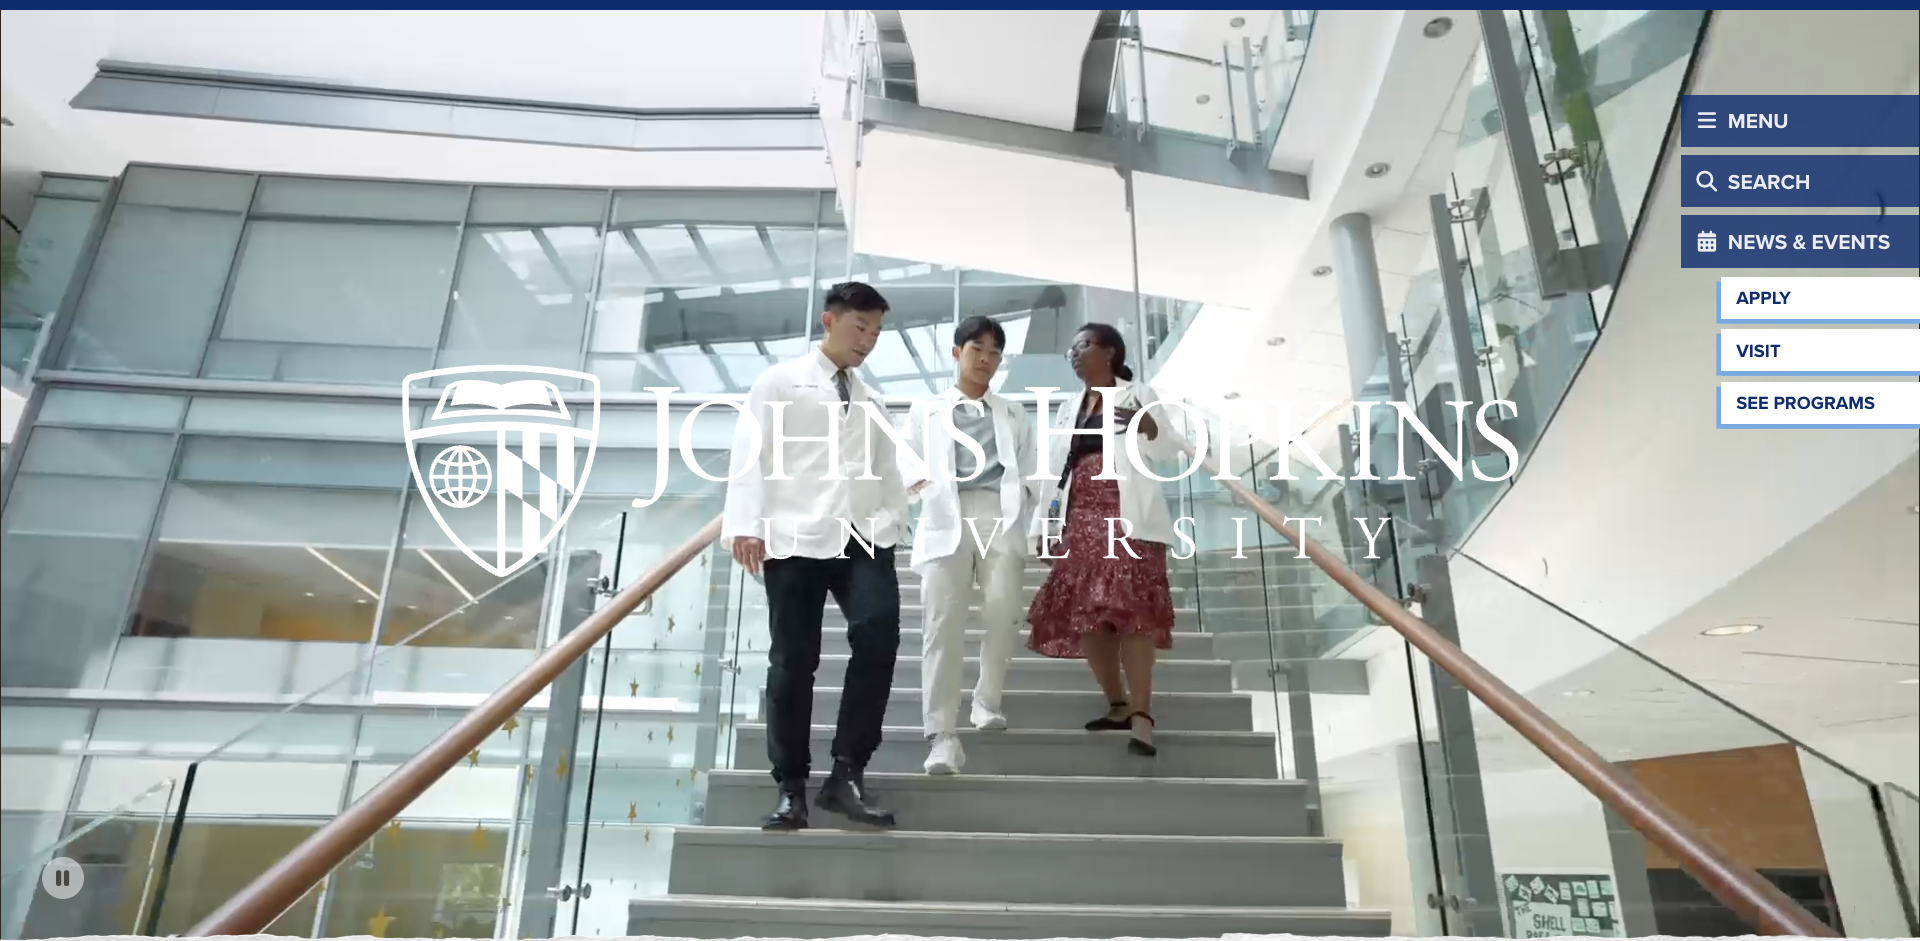button: (42, 856, 105, 899)
link: (1680, 94, 1920, 147), (1680, 154, 1920, 207), (1680, 216, 1920, 268), (1720, 277, 1920, 319), (1720, 330, 1920, 371), (1720, 382, 1920, 424)
menu_item: (1668, 277, 1920, 319), (1668, 330, 1920, 371), (1668, 382, 1920, 424)
